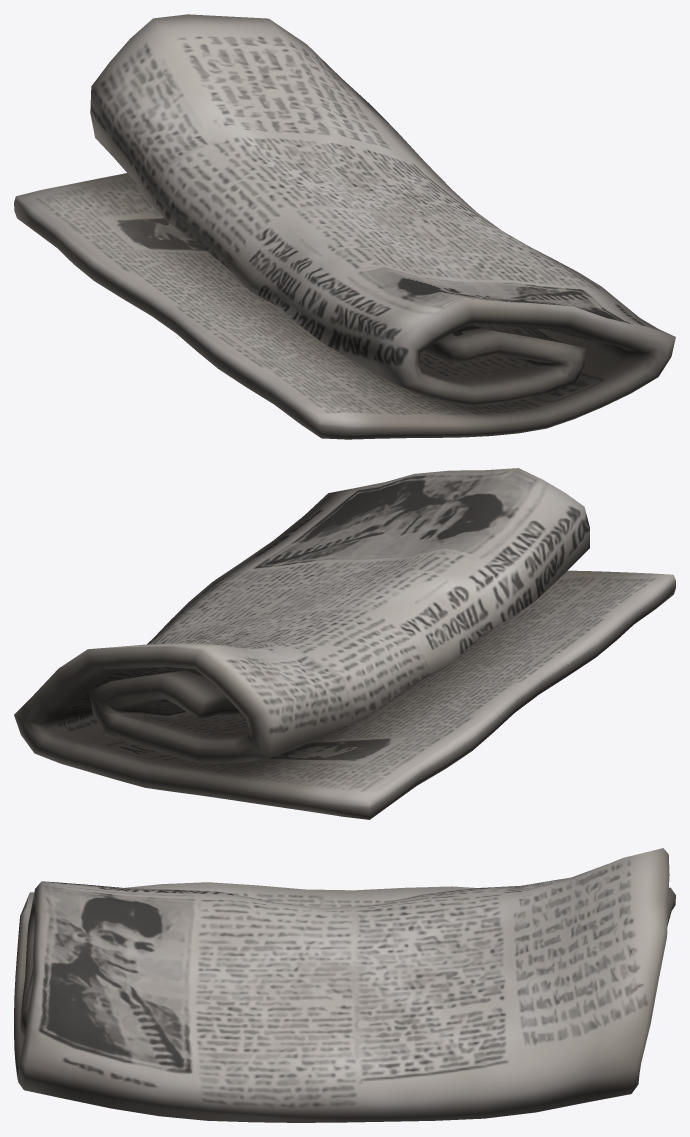
The model's file is newspaper.fbx.
3 renders of one model, top to bottom at view 1: azimuth 30°, elevation 25°; view 2: azimuth 150°, elevation 25°; view 3: azimuth 270°, elevation 25°, orthographic. The views are drawn at different scales.
Parts seen in each view (by area): view 1: Plane; view 2: Plane; view 3: Plane.
Part boxes in pixels (bbox=[...]): Plane: bbox=[14, 14, 675, 439]; Plane: bbox=[14, 468, 675, 819]; Plane: bbox=[14, 848, 675, 1122].
Bounding box in the file's own units: 0.3584 × 0.2377 × 0.1185.
